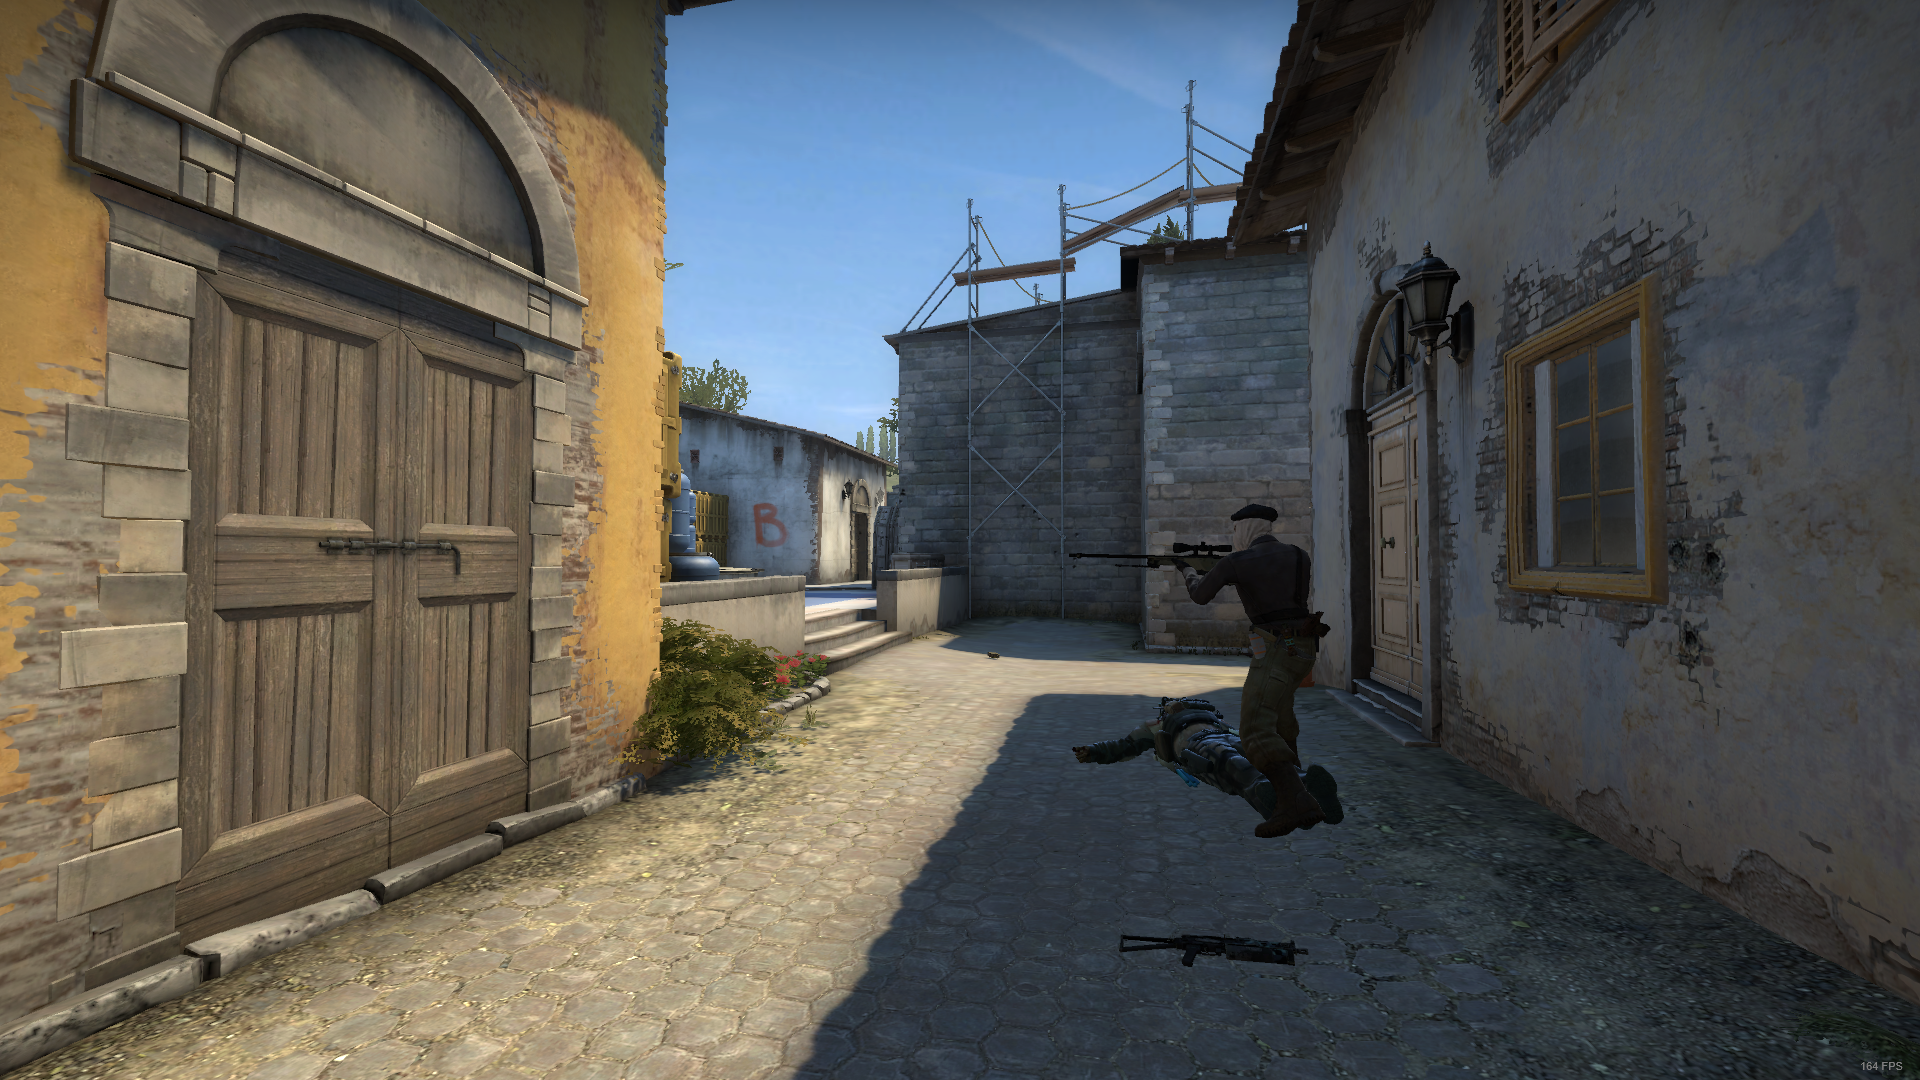t: (1172, 502, 1337, 848)
